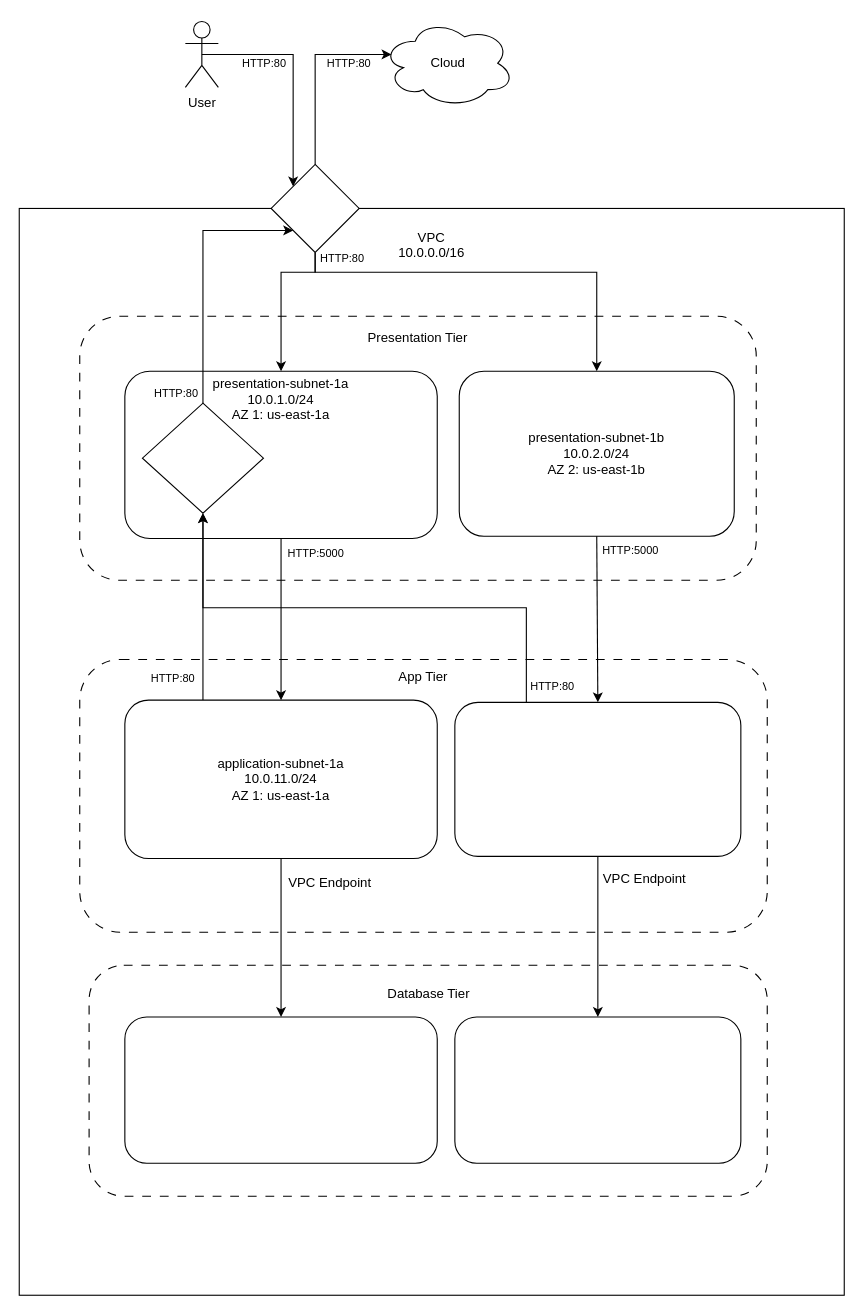
Some shapes in this 864 by 1315 pixel diagram are drawn without their labels. Here are the shapes that lost their labels. From the top down, the centre of each, then its label:
the point at 314,207: IGW
the point at 202,457: NAT Gateway
the point at 597,778: application-subnet-1b 10.0.12.0/24 AZ 2: us-east-1b
the point at 280,1089: data-subnet-1a 10.0.21.0/24 AZ 1: us-east-1a
the point at 597,1089: data-subnet-1b 10.0.22.0/24 AZ 2: us-east-1b
